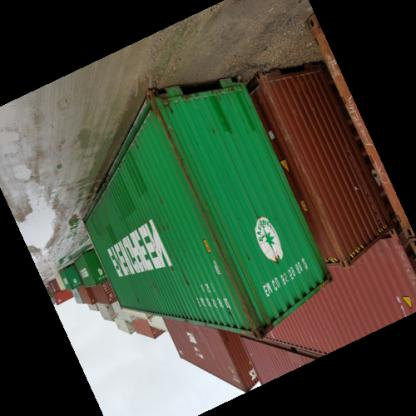Damage: (138, 87, 206, 209), (205, 216, 264, 348)
